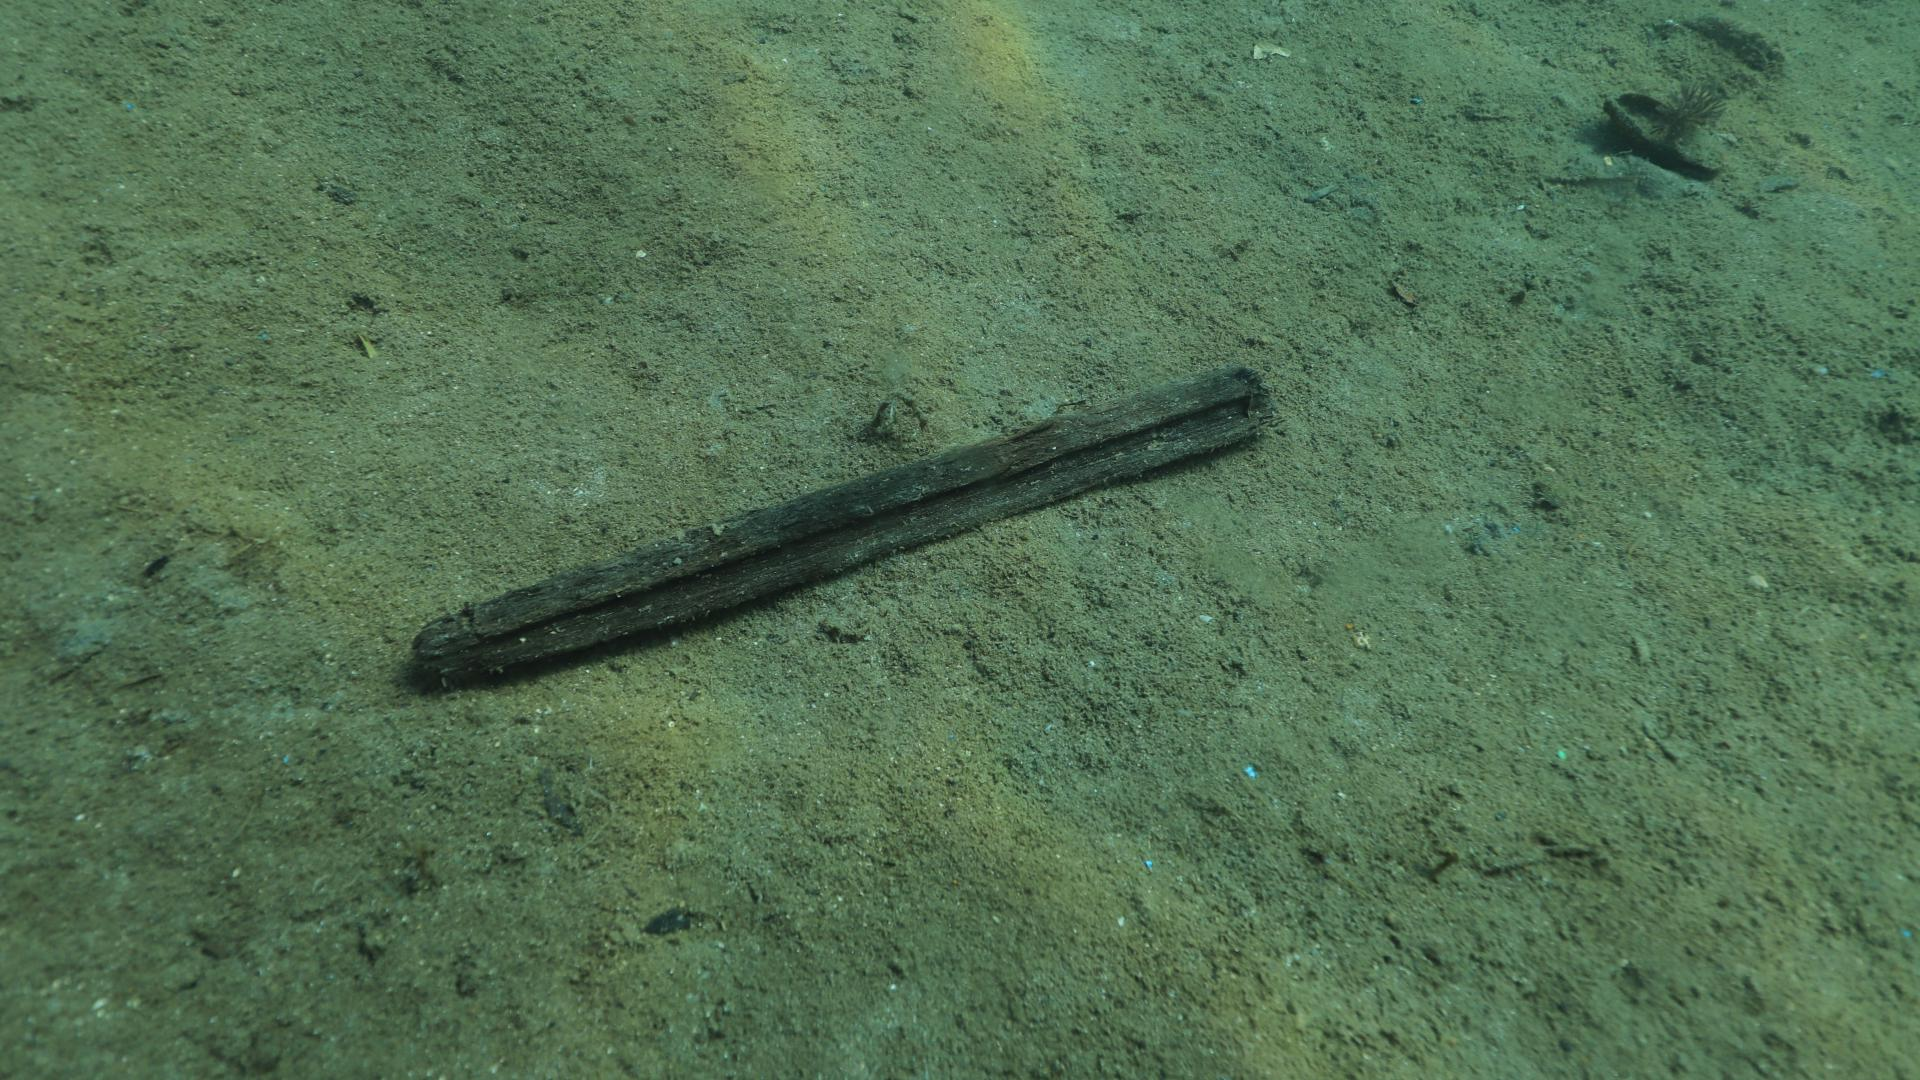wood: (407, 363, 1276, 675)
